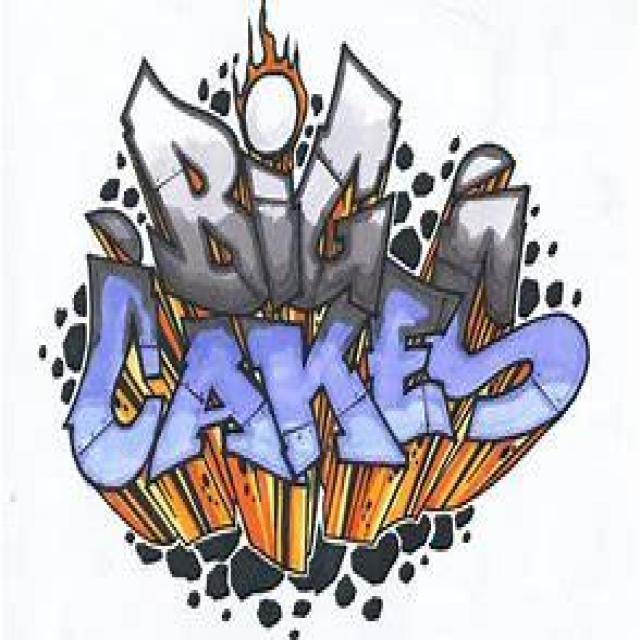nonspitting: (37, 0, 589, 640)
